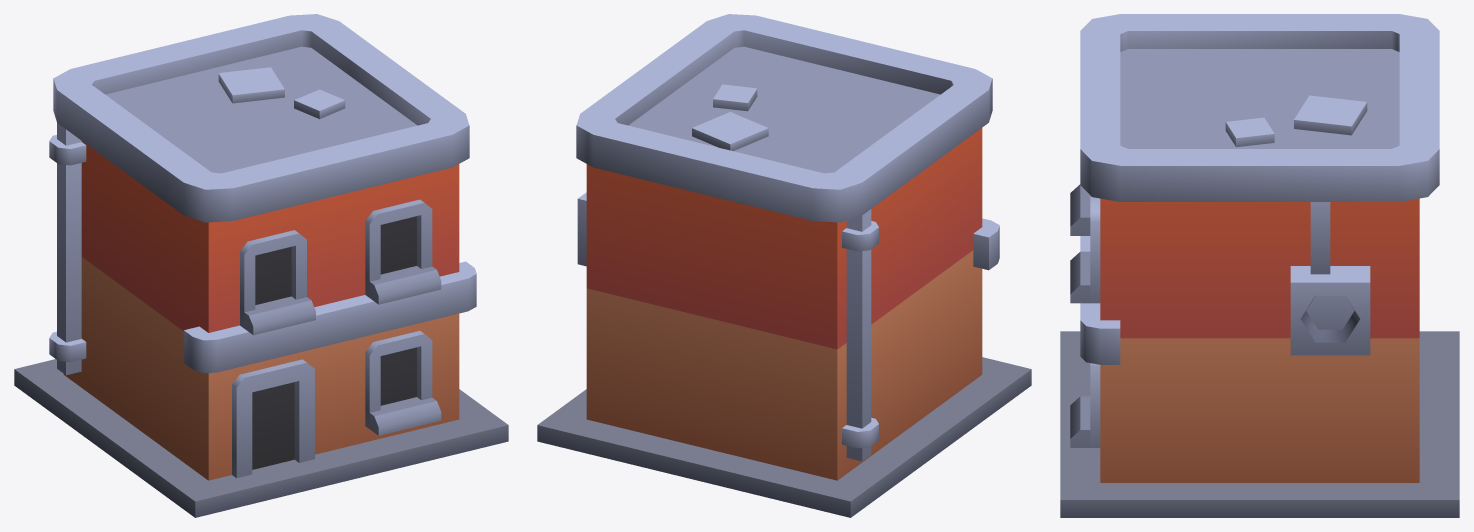
The model's file is ken_building-small-a.glb.
3 renders of one model, left to right at view 1: azimuth 30°, elevation 25°; view 2: azimuth 150°, elevation 25°; view 3: azimuth 270°, elevation 25°, orthographic. The views are drawn at different scales.
Visible parts, largest first — view 1: building-small-a; view 2: building-small-a; view 3: building-small-a.
Part boxes in pixels (<box>): building-small-a: <box>14,14,508,517</box>; building-small-a: <box>537,14,1031,517</box>; building-small-a: <box>1060,14,1459,517</box>.
Size of the model in its own units: 1 by 0.95 by 1.
Materials: 1 (1 with a texture image).
